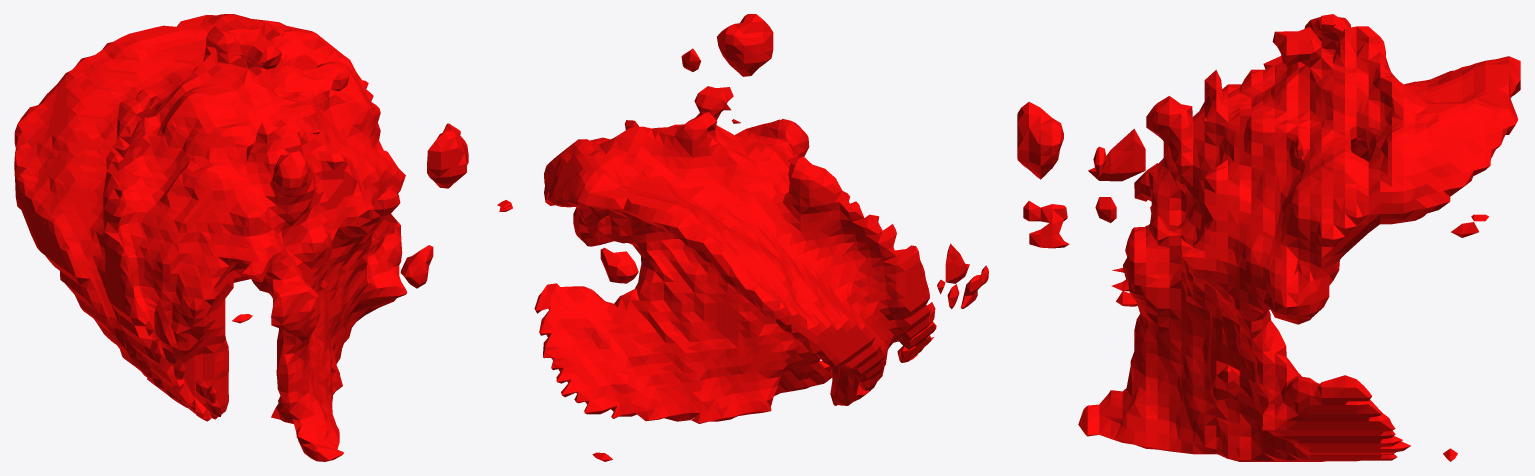
File: B939XXXX-1_valve_20.obj
3 views of the same model, side by side, from view 1: azimuth 30°, elevation 25°; view 2: azimuth 150°, elevation 25°; view 3: azimuth 270°, elevation 25° (orthographic). The views are drawn at different scales.
Parts seen in each view (by area): view 1: 20_valve; view 2: 20_valve; view 3: 20_valve.
Boxes of the visible parts, x1=… form: 20_valve: x1=14, y1=14, x2=468, y2=461; 20_valve: x1=497, y1=14, x2=988, y2=461; 20_valve: x1=1017, y1=14, x2=1520, y2=461.
Bounding box in the file's own units: 75.84 × 76.97 × 85.95.
